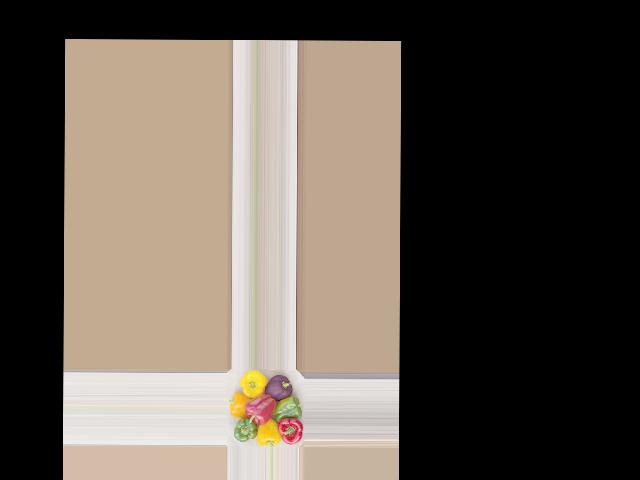bell_pepper: (264, 375, 299, 405)
